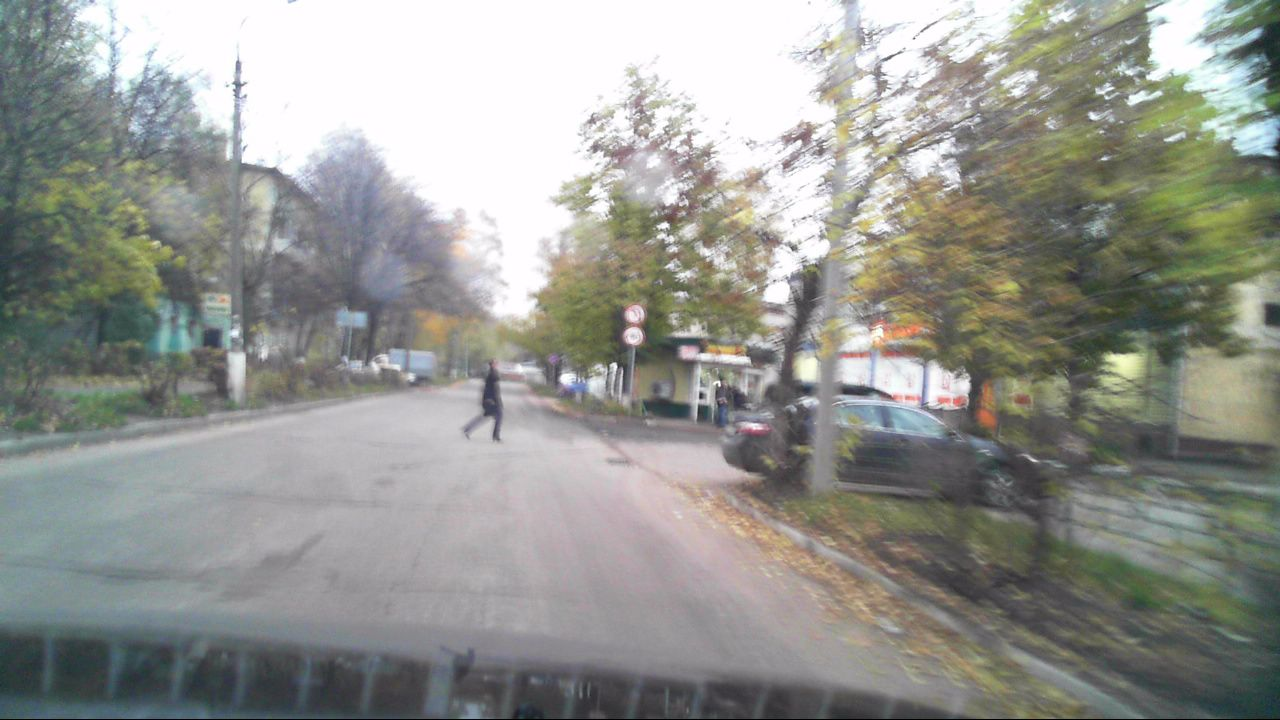speed_warning_40: (623, 326, 643, 346)
